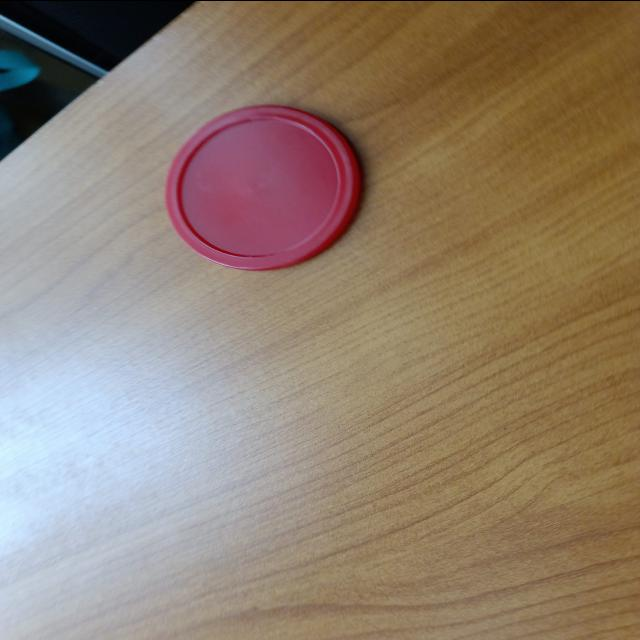chip: (160, 100, 362, 272)
